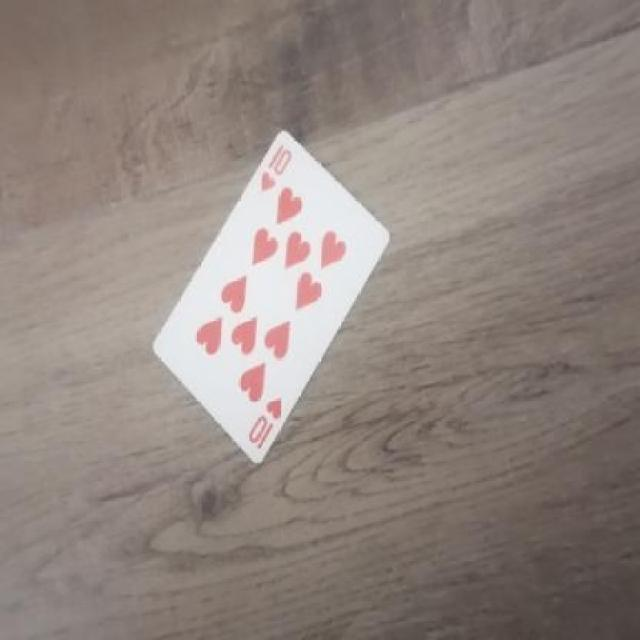10H: (250, 133, 298, 210), (243, 385, 291, 460)
